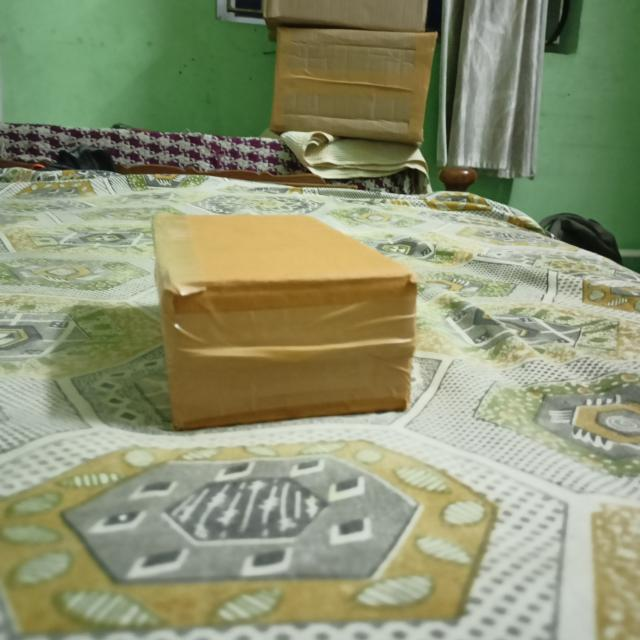box: (171, 281, 411, 430)
